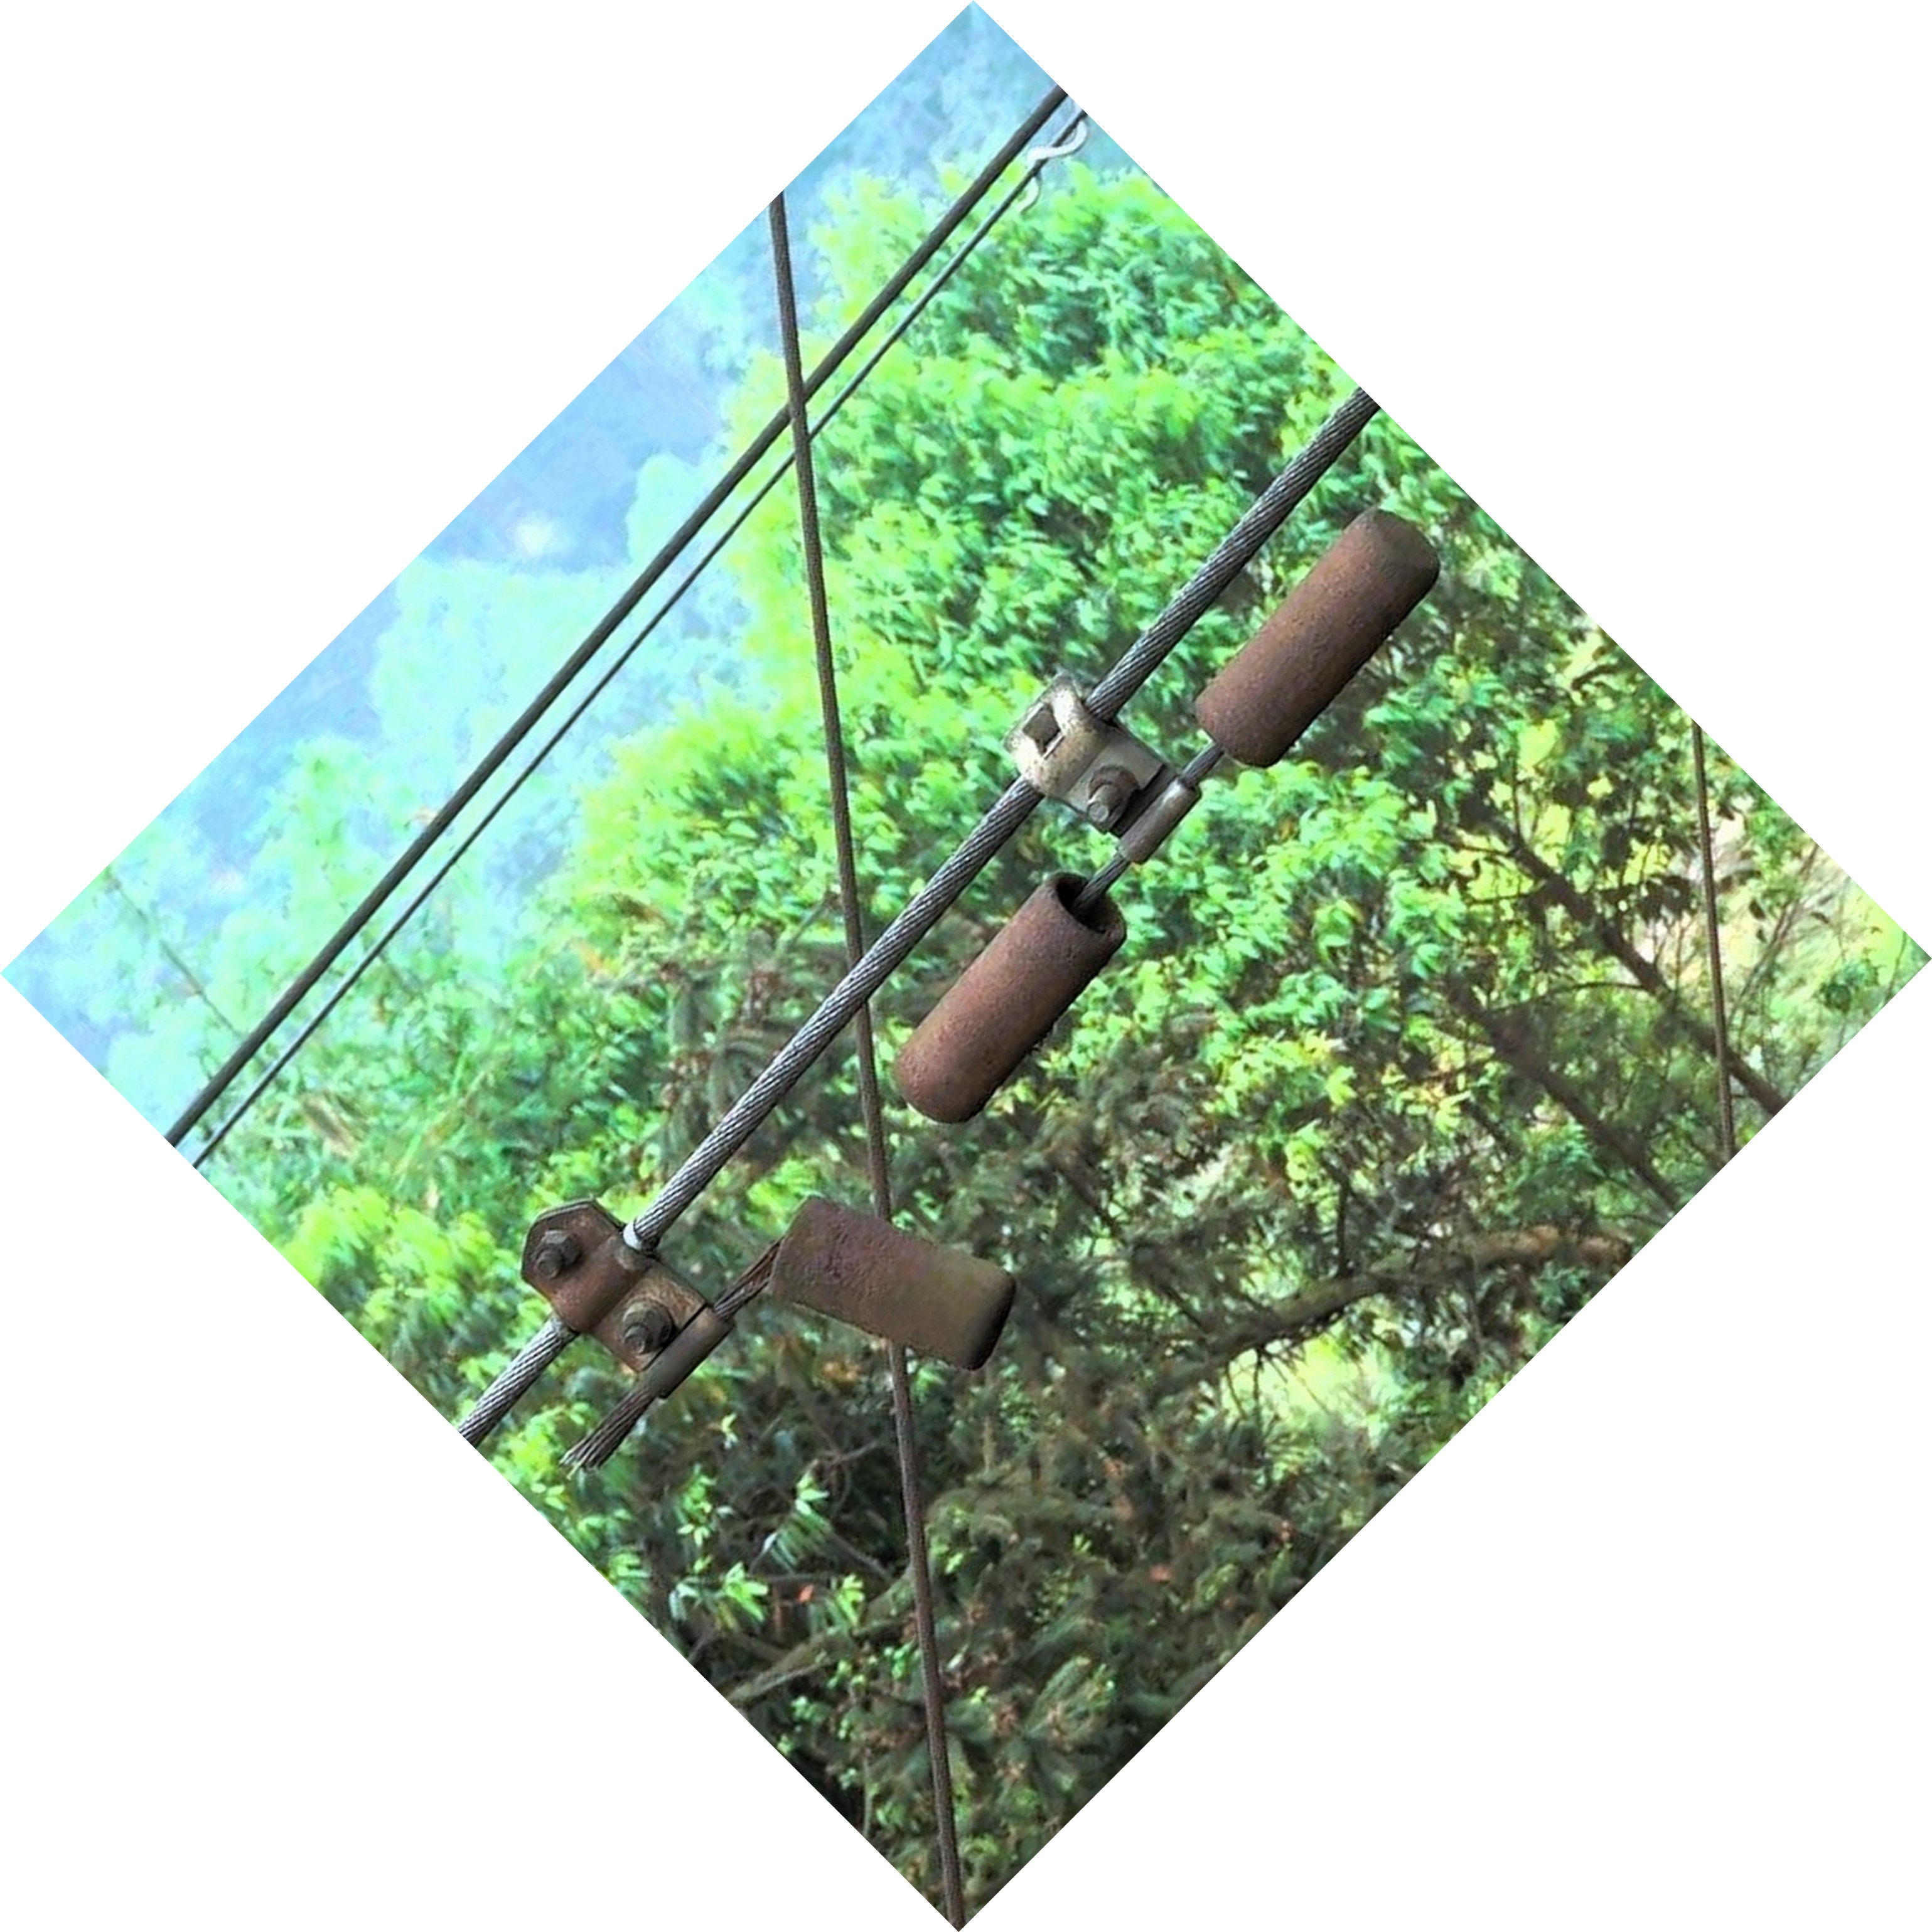Damage of shockproof hammer: (483, 1129, 1016, 1522)
